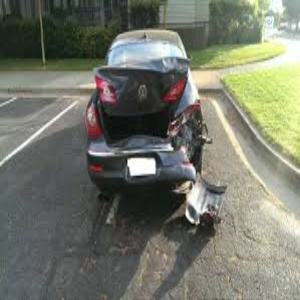bonnet: (87, 56, 191, 112)
bumper: (161, 134, 209, 183)
